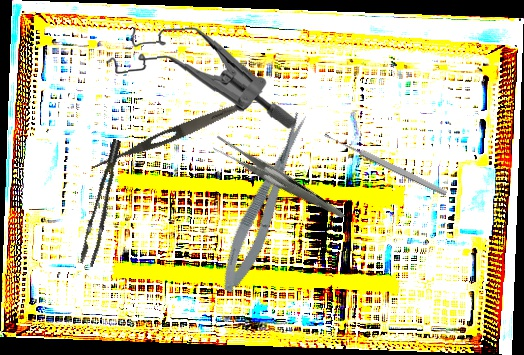Dressing Forceps: (209, 108, 345, 251), (89, 98, 245, 176)
Micro Scissor: (212, 109, 319, 297)
Speculum: (104, 19, 296, 137)
Surgical Spoon: (323, 130, 448, 198)
Tissue Forceps: (67, 138, 139, 268)
